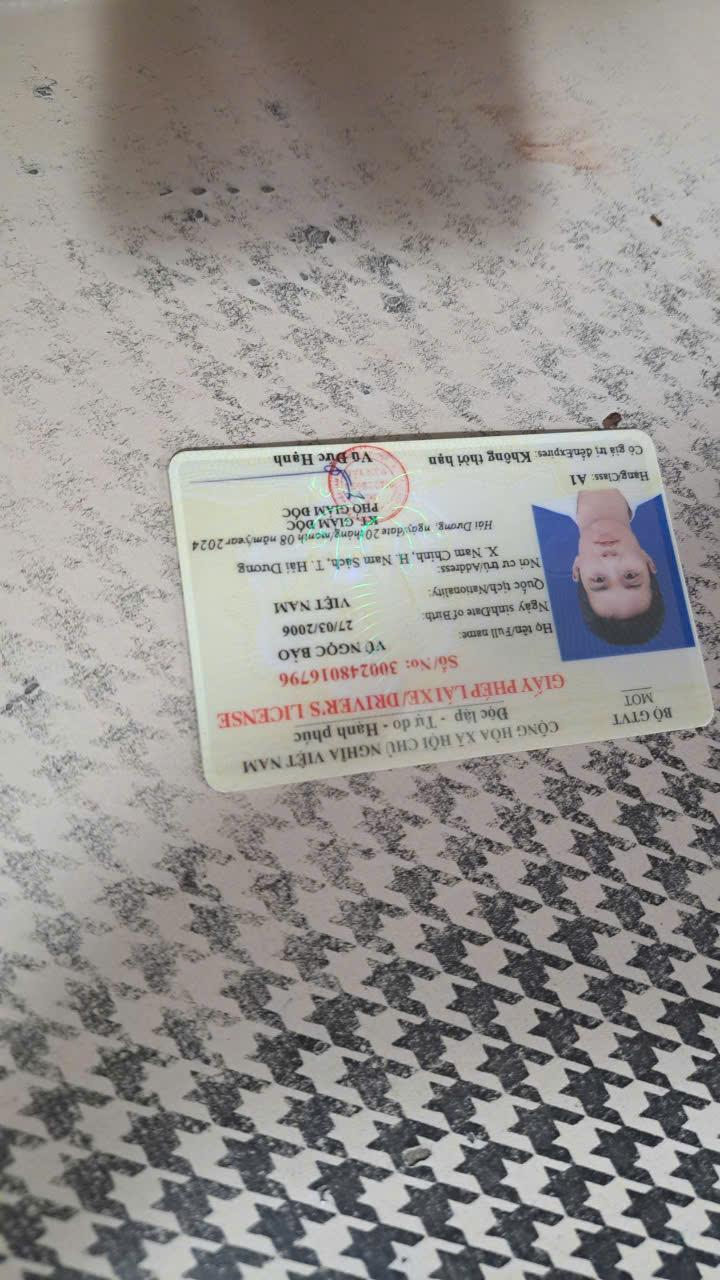gplx: (160, 419, 719, 805)
